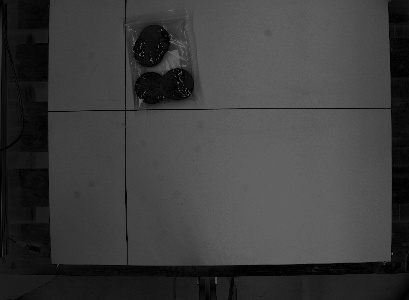t1: (120, 8, 207, 113)
